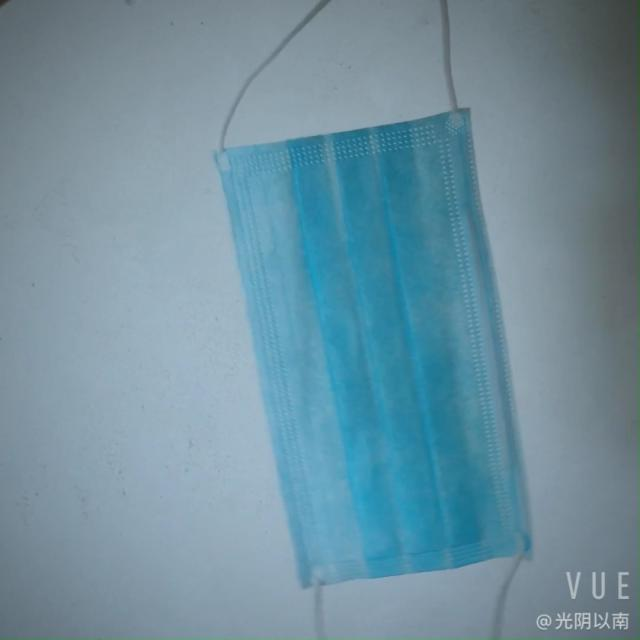non-organic waste: (218, 93, 560, 601)
